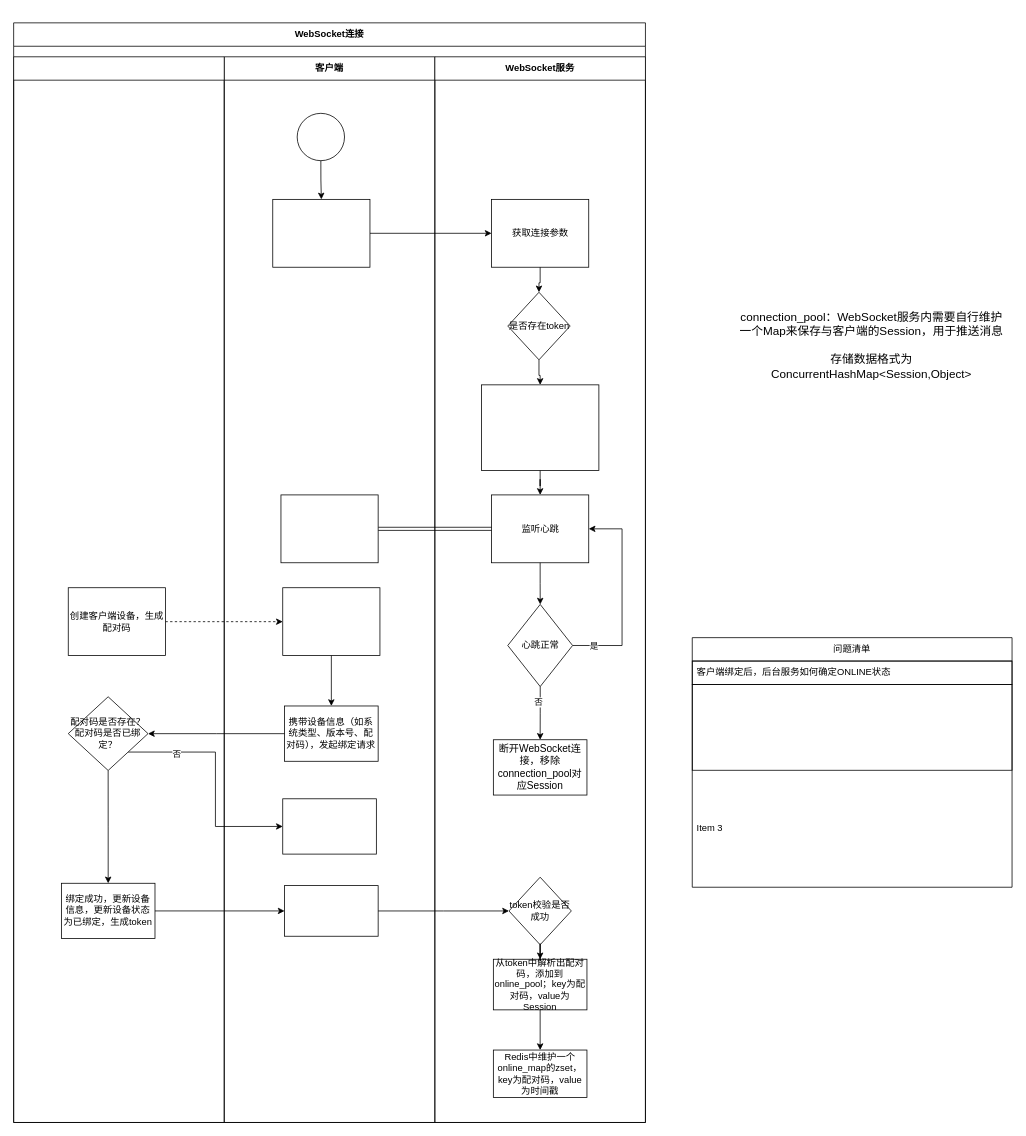
The diagram is 1026 pixels wide and 1136 high, and some of its shapes have lost their labels. The shapes that lost their labels are listed below. From the top down, each one's centre as x and y in pixels, then its label:
(321,233): 配置WebSocket服务地址，启动设备便发起WS连接
(540,427): 添加到 connection_pool；key为Session，value为想要保存的连接参数
(329,528): 发送心跳
(118,589): 设备服务
(331,621): 填写配对码并绑定
(851,727): 客户端绑定成功后，下线后再重连，Websocket服务如何处理
(329,826): 绑定失败
(331,910): 存储token，发送type为绑定成功的WS消息
